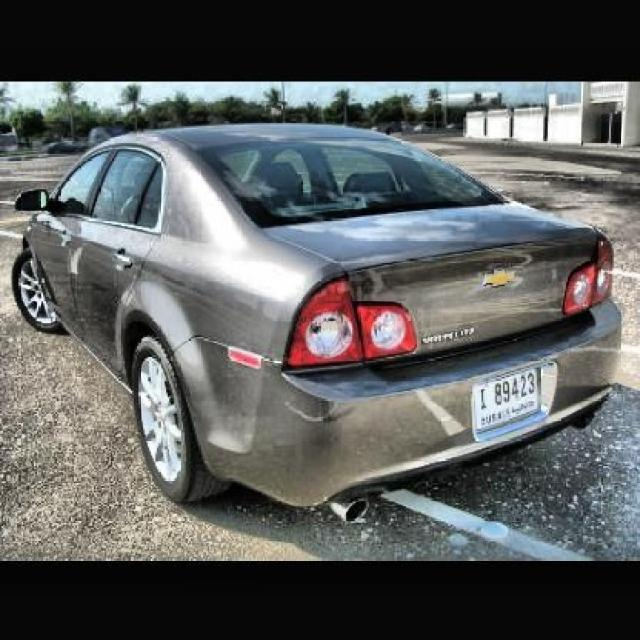black: (26, 122, 613, 459)
